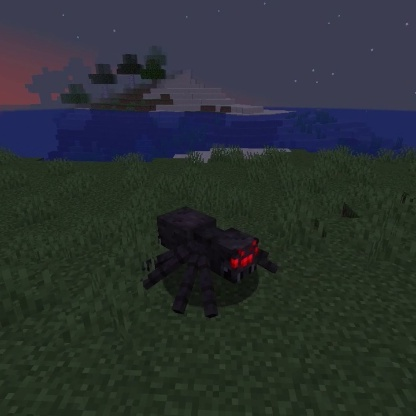spider: (139, 203, 280, 321)
